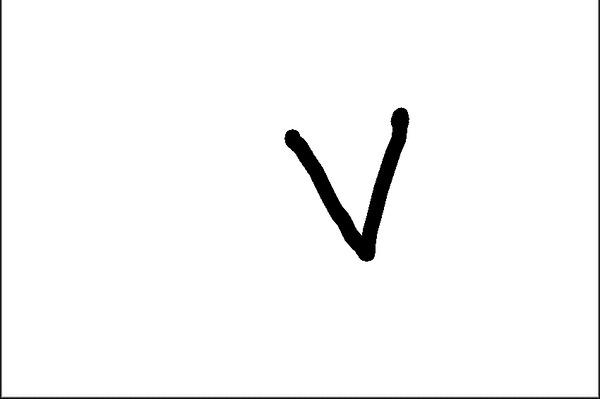V: (262, 95, 424, 269)
